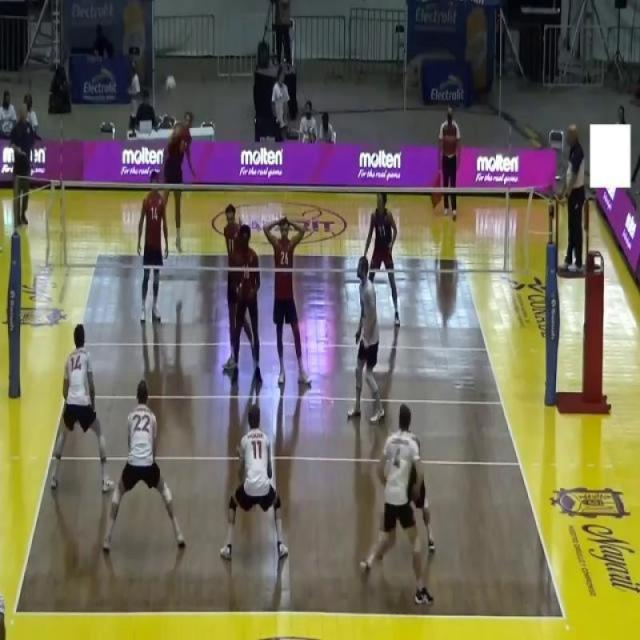volleyball: (166, 74, 177, 94)
